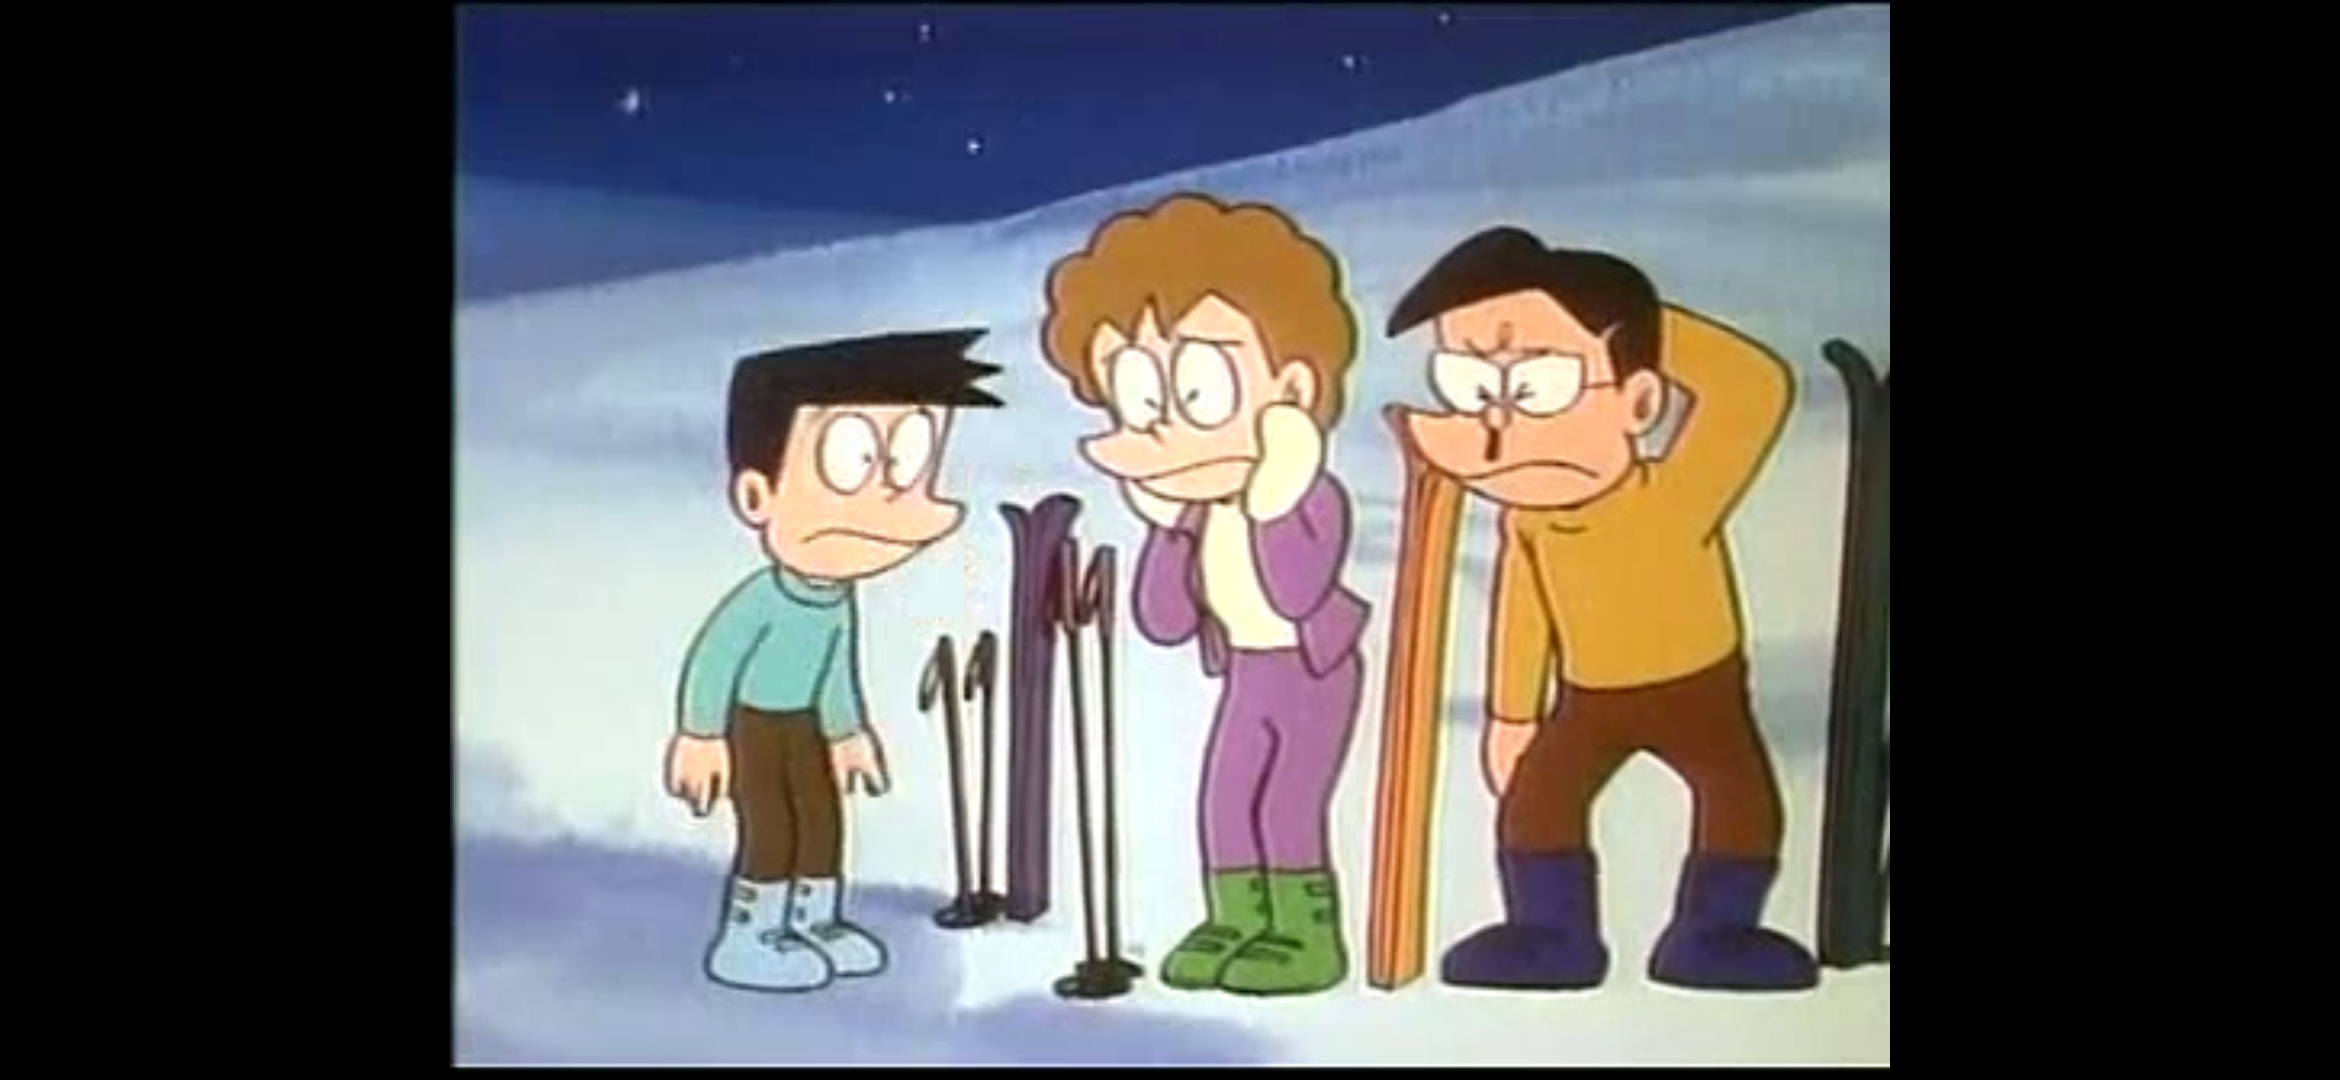Suneo: (724, 325, 1004, 580)
